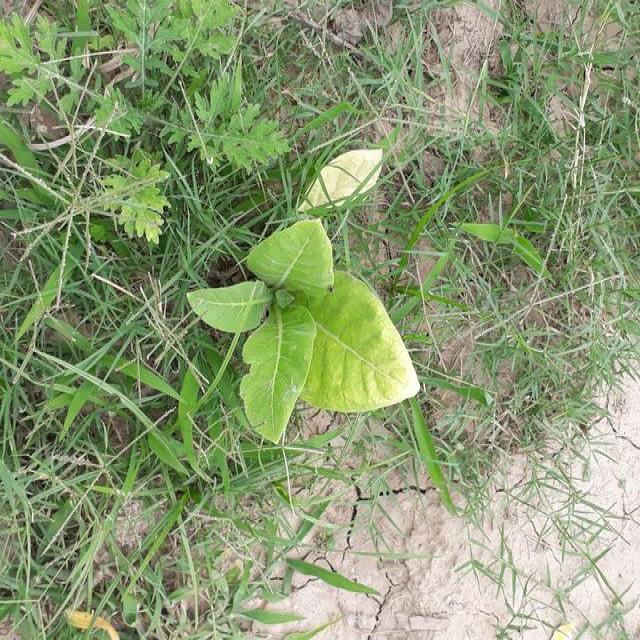crop: (198, 224, 411, 443)
